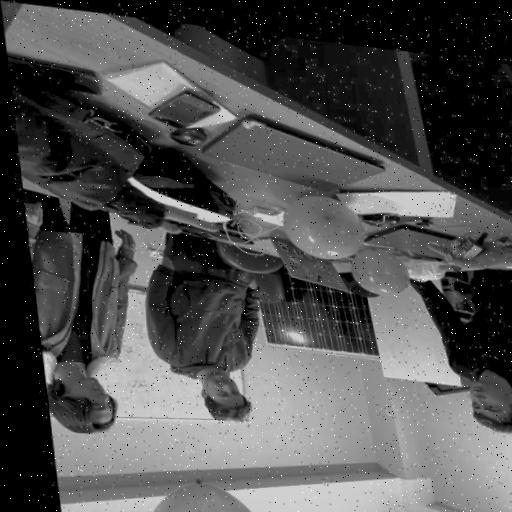balloon: (275, 186, 359, 253), (349, 236, 409, 294)
